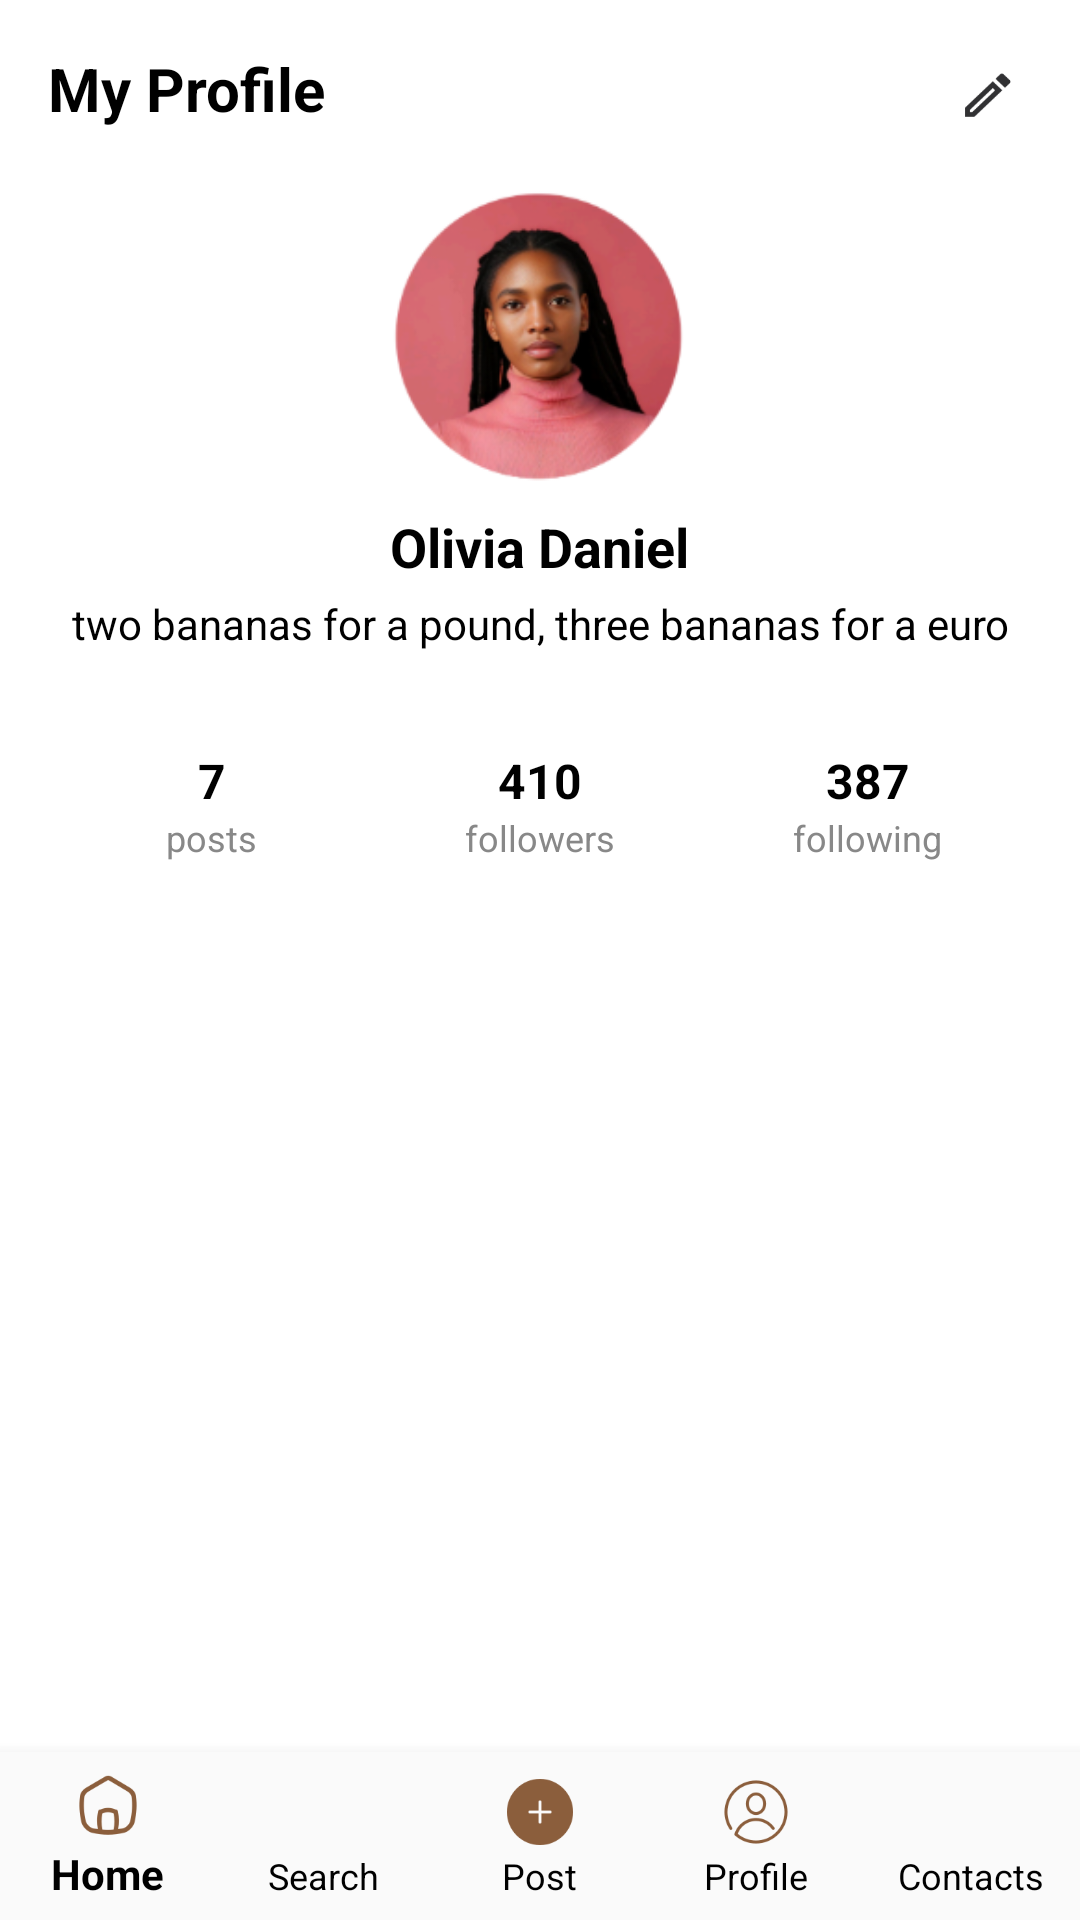

Icons on this 1080x1920 Android screen, each with the point to tap as point (x, y):
Edit Profile: point (988, 95)
profile pic: point (538, 336)
